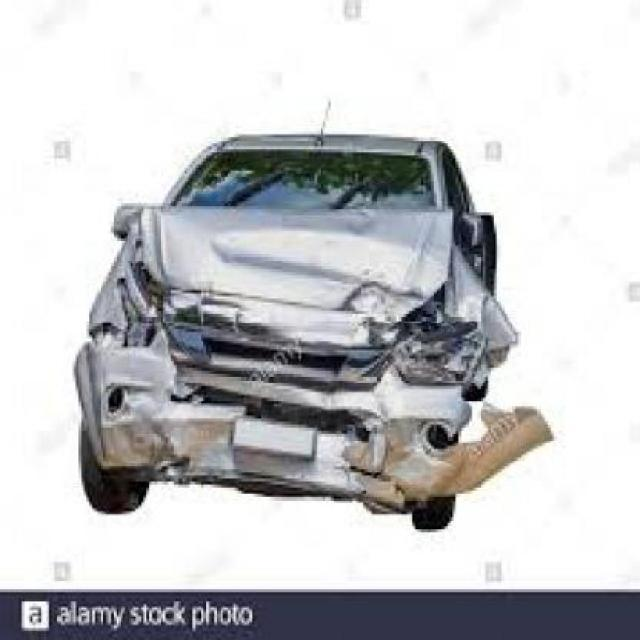damaged-front-bumper: (63, 351, 460, 506)
